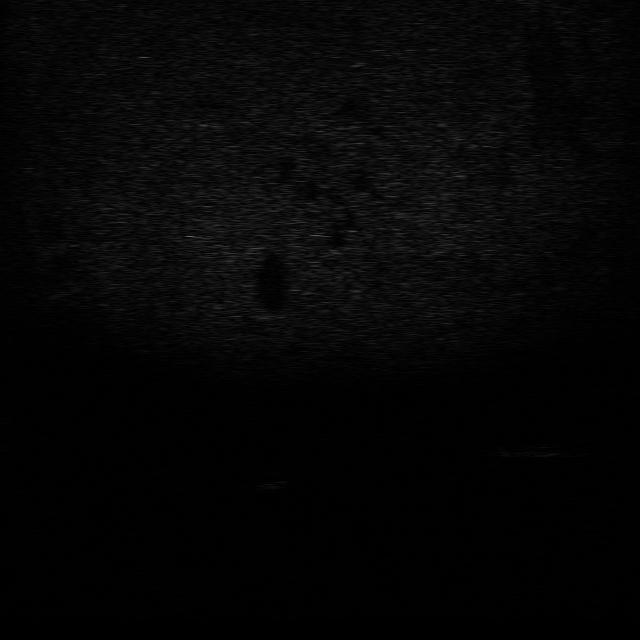ball: (248, 470, 292, 491)
human body: (475, 436, 585, 464)
